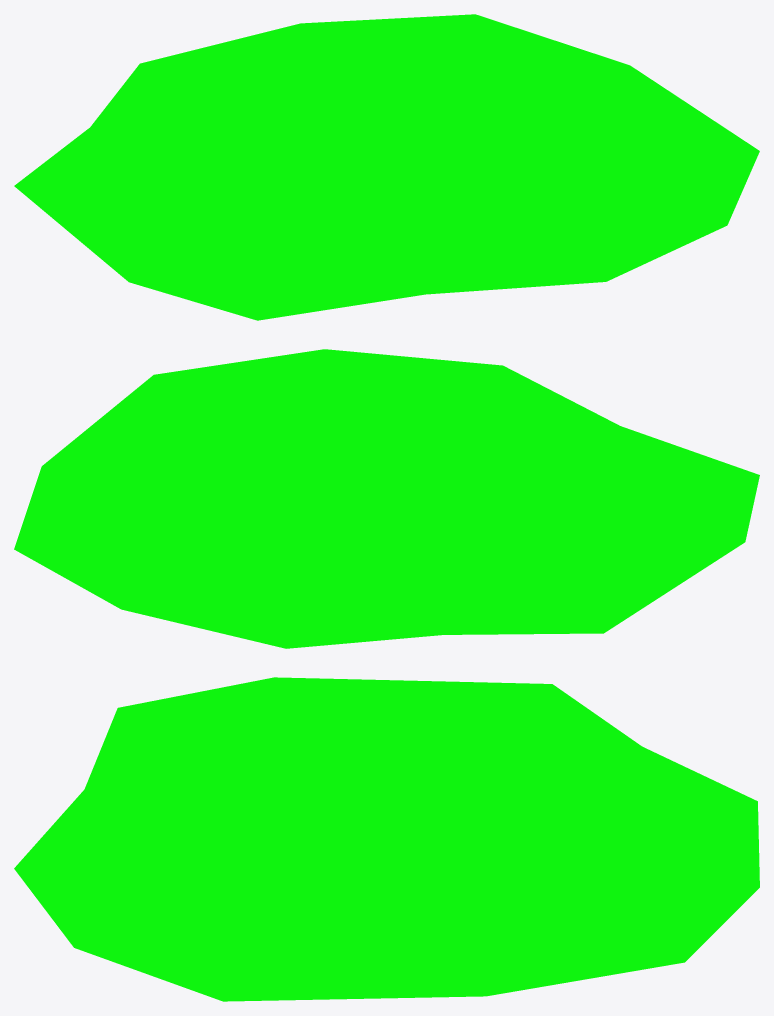
Rendered from s03z_na1-floor.glb.
3 views of the same model, one above another, from view 1: azimuth 30°, elevation 25°; view 2: azimuth 150°, elevation 25°; view 3: azimuth 270°, elevation 25° (orthographic). The views are drawn at different scales.
Parts seen in each view (by area): view 1: collision_floor-colonly; view 2: collision_floor-colonly; view 3: collision_floor-colonly.
Boxes of the visible parts, <box> form: collision_floor-colonly: <box>14,14,759,320</box>; collision_floor-colonly: <box>14,349,759,648</box>; collision_floor-colonly: <box>14,677,759,1001</box>.
Size of the model in its own units: 37.41 by 0 by 36.39.
